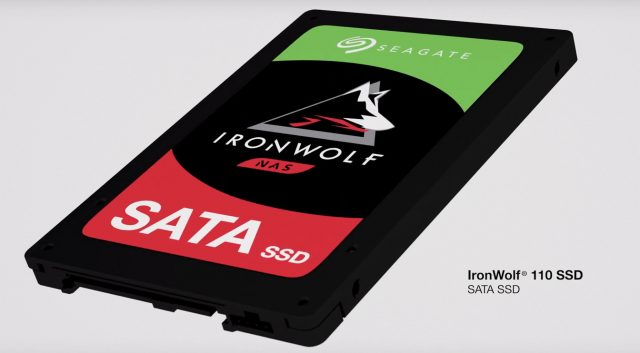seagate-hdd-240gb: (17, 6, 582, 346)
